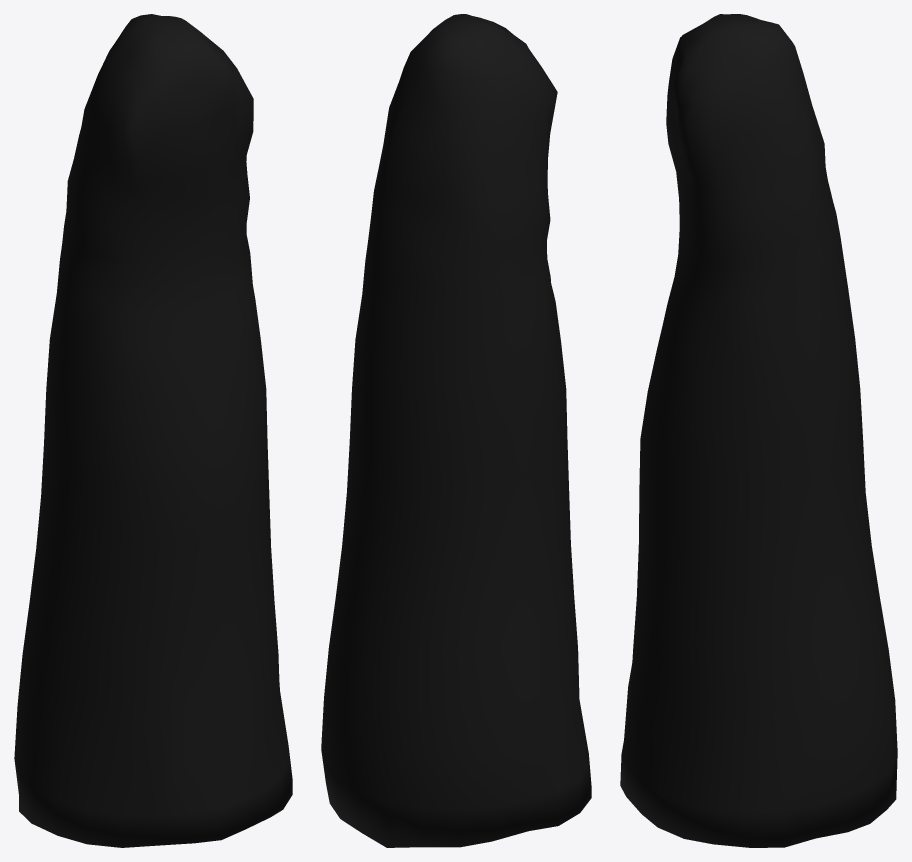
Rendered from noface-body.dae.
3 views of the same model, side by side, from view 1: azimuth 30°, elevation 25°; view 2: azimuth 150°, elevation 25°; view 3: azimuth 270°, elevation 25° (orthographic). The views are drawn at different scales.
Visible parts, largest first — view 1: noface-body; view 2: noface-body; view 3: noface-body.
Boxes of the visible parts, x1,y1,x2,y2 form: noface-body: (14,14,292,847); noface-body: (321,14,591,847); noface-body: (620,14,897,847).
Size of the model in its own units: 0.6223 by 0.6071 by 1.88.
1 material, 1 textured.
